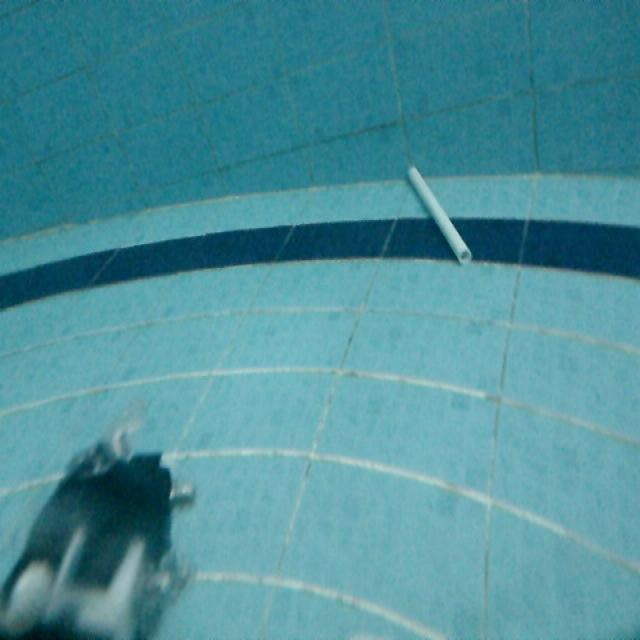Cube: (403, 158, 475, 266)
